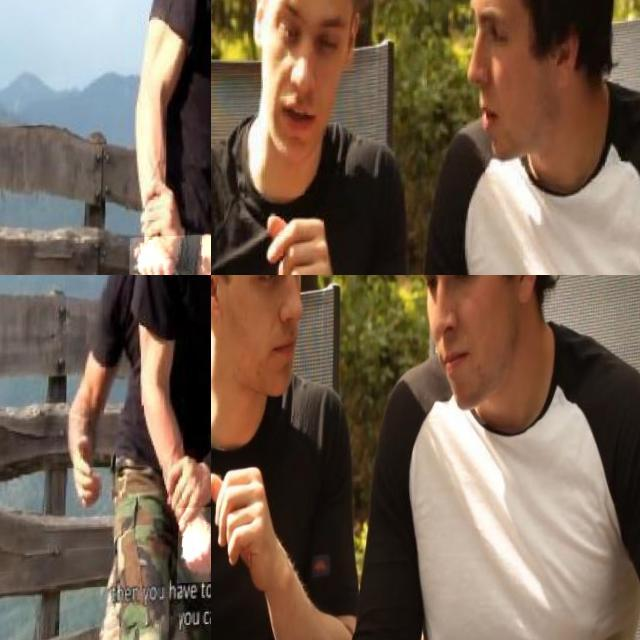-: (130, 236, 211, 275), (179, 507, 211, 585)
